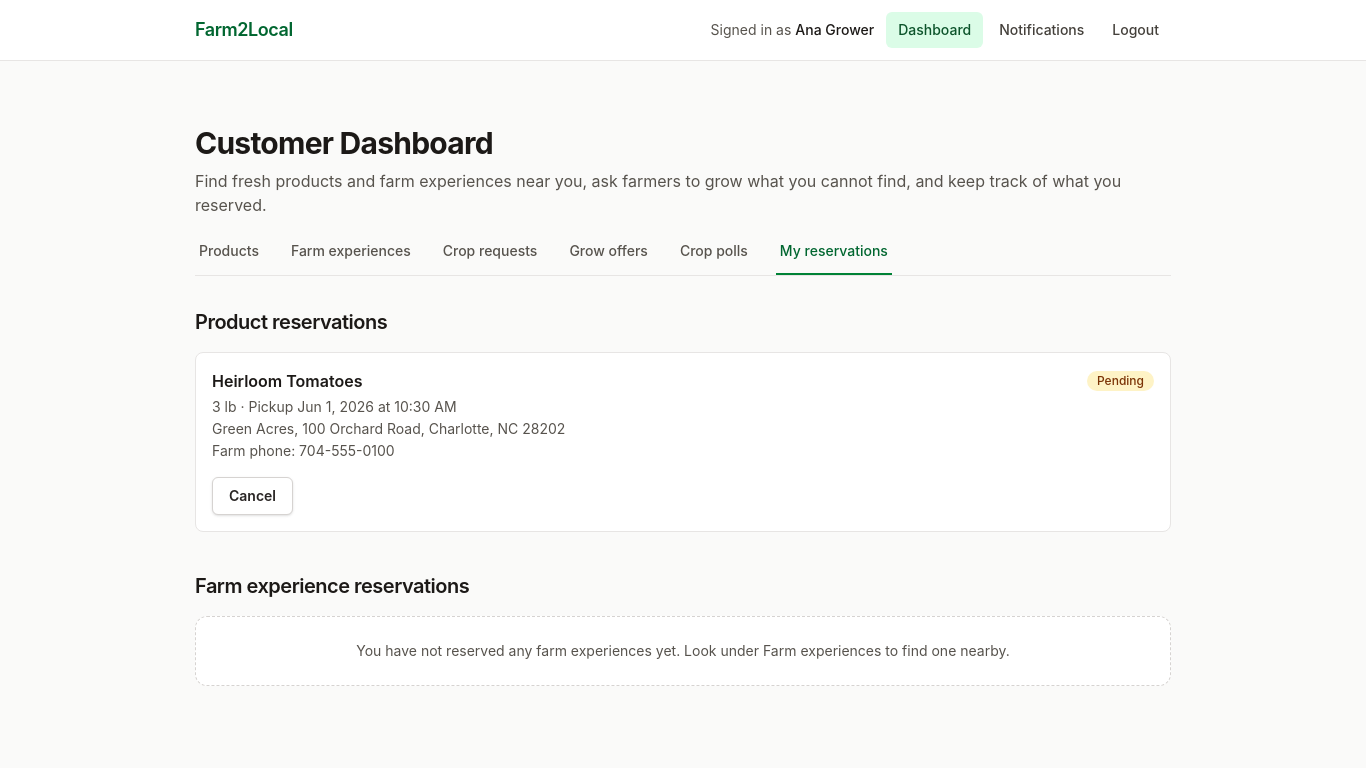
Test: customer reservations › cancels a product reservation
Click the button with aria-label "Cancel reservation for Heirloom Tomatoes". click: [252, 496]
box: [212, 477, 293, 515]
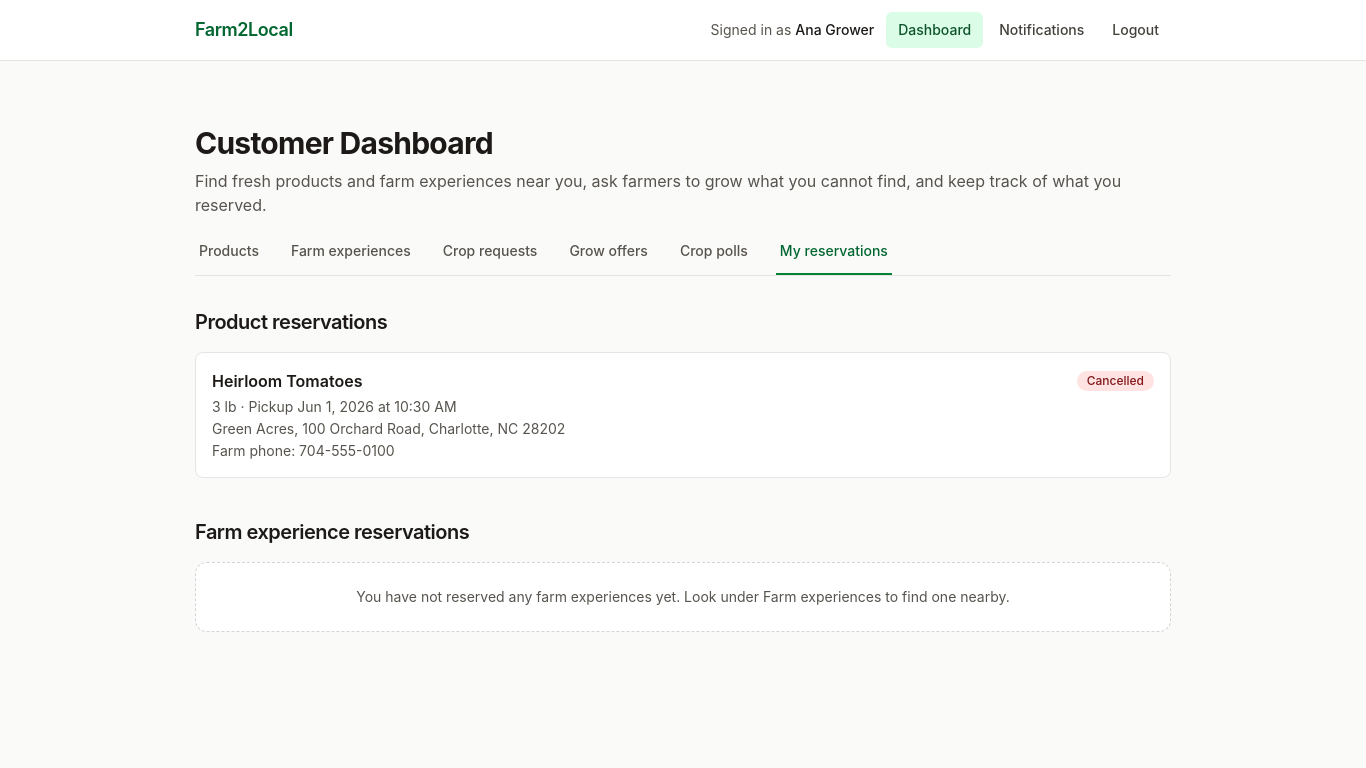
Check: the text "Cancelled" is shown, box [1077, 371, 1154, 391]
